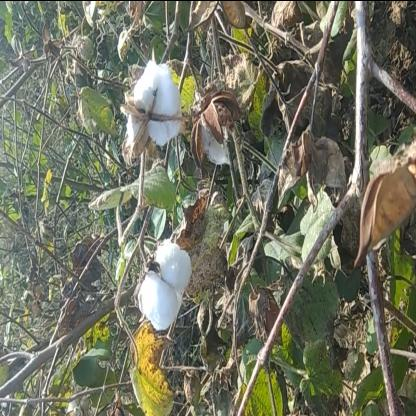cotton_ready: (116, 42, 192, 158), (129, 232, 191, 336)
